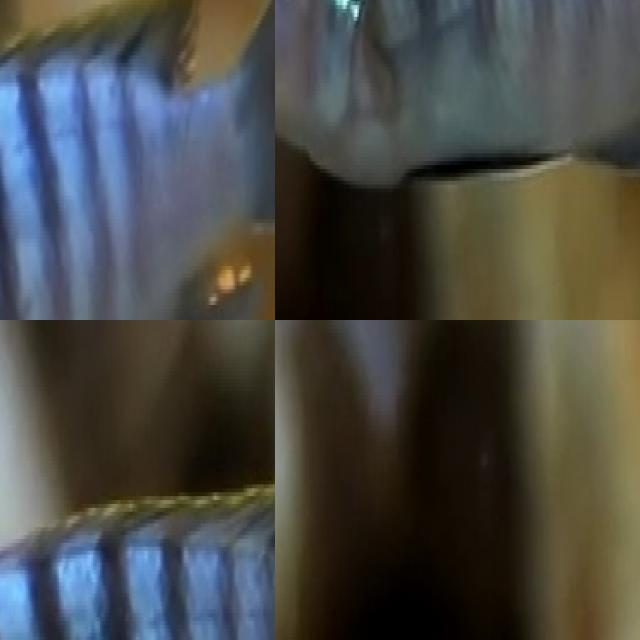fish: (0, 0, 275, 320), (275, 320, 433, 489)
